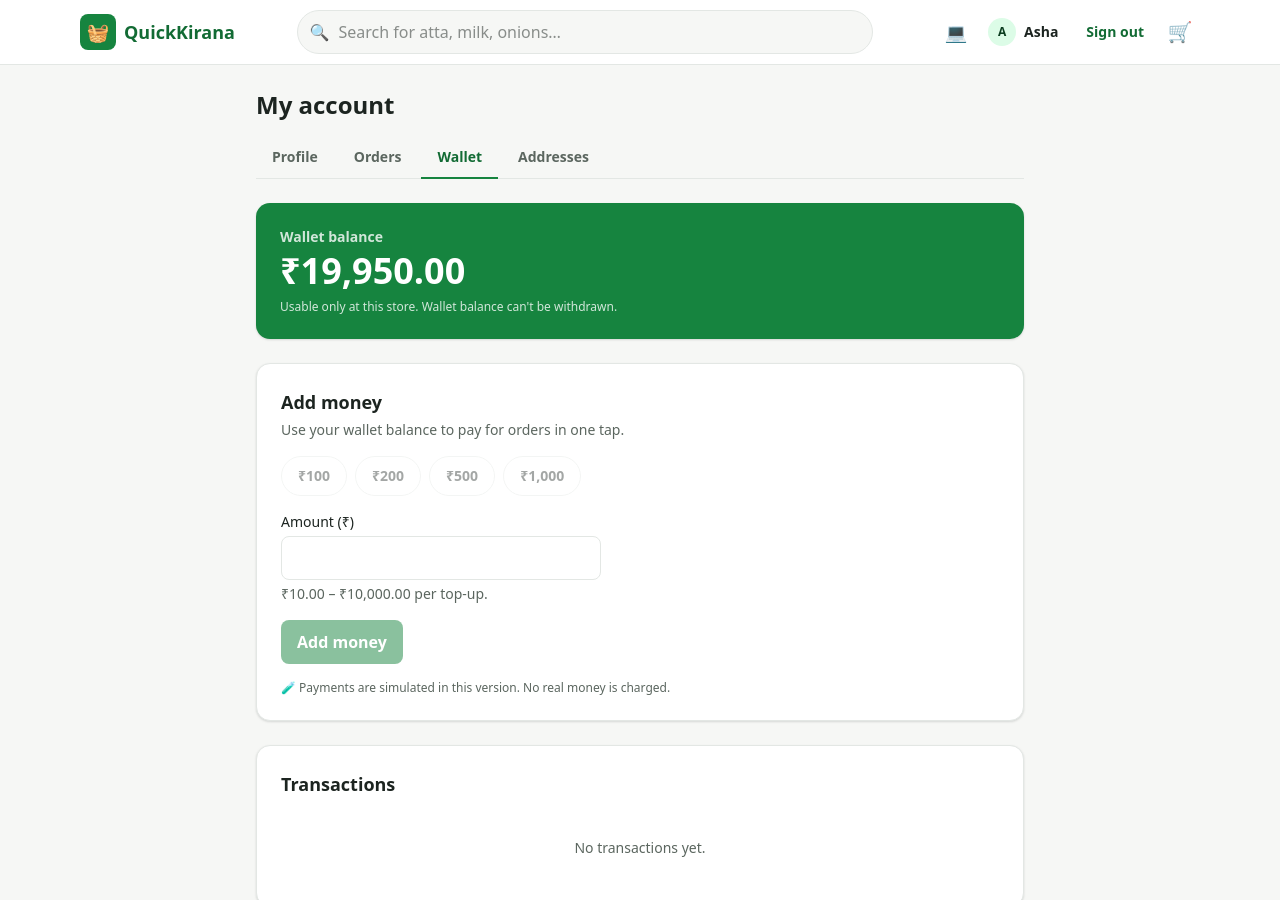
Test: customer wallet › checks limits before contacting the server
Expected: the button "₹100" is disabled, x1=281 y1=456 x2=347 y2=496
Type "60" into the number field labelled "Amount (₹)" at point(441, 558), box x1=281 y1=536 x2=601 y2=580
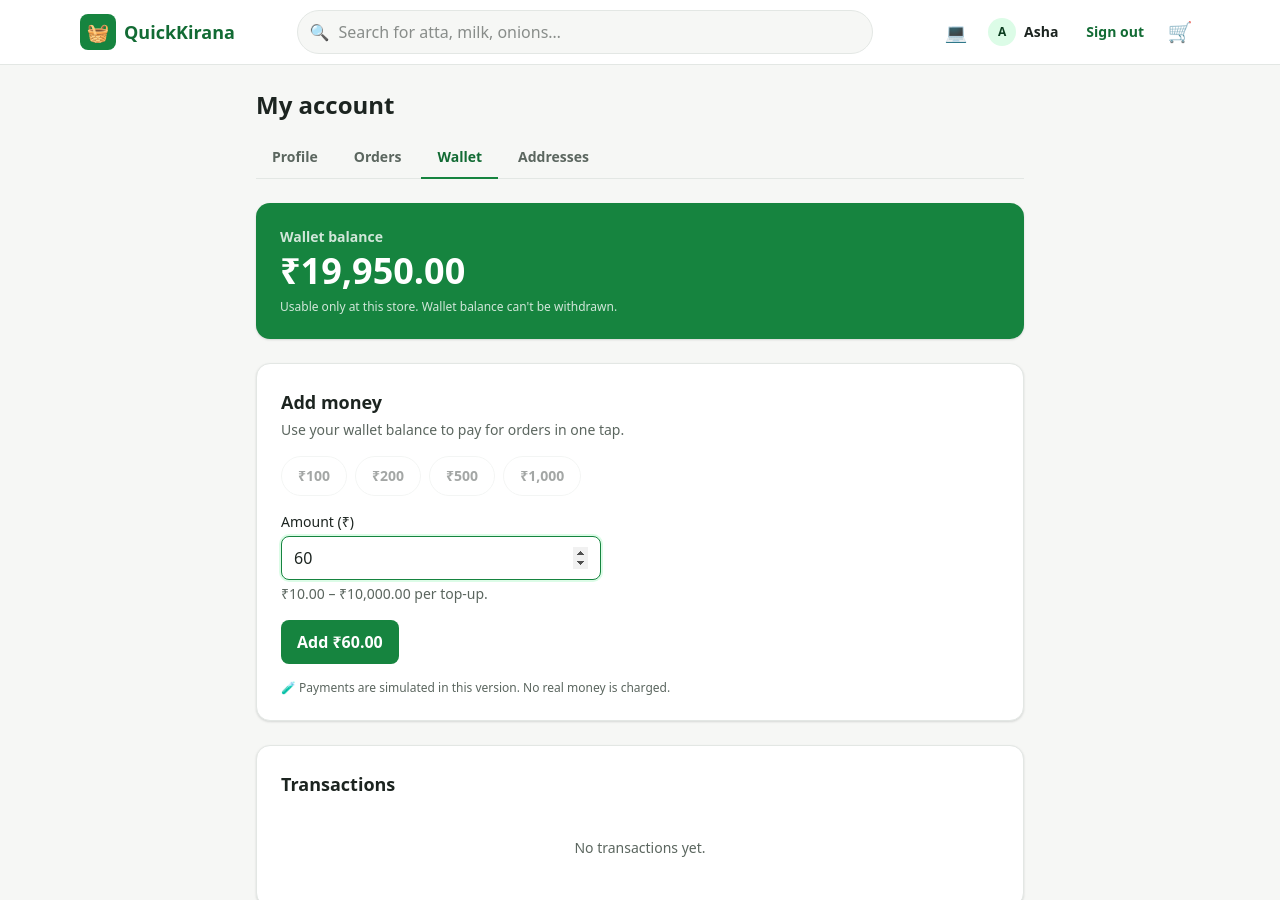
Click the button "Add ₹60.00" at point(340, 642), box x1=281 y1=620 x2=399 y2=664
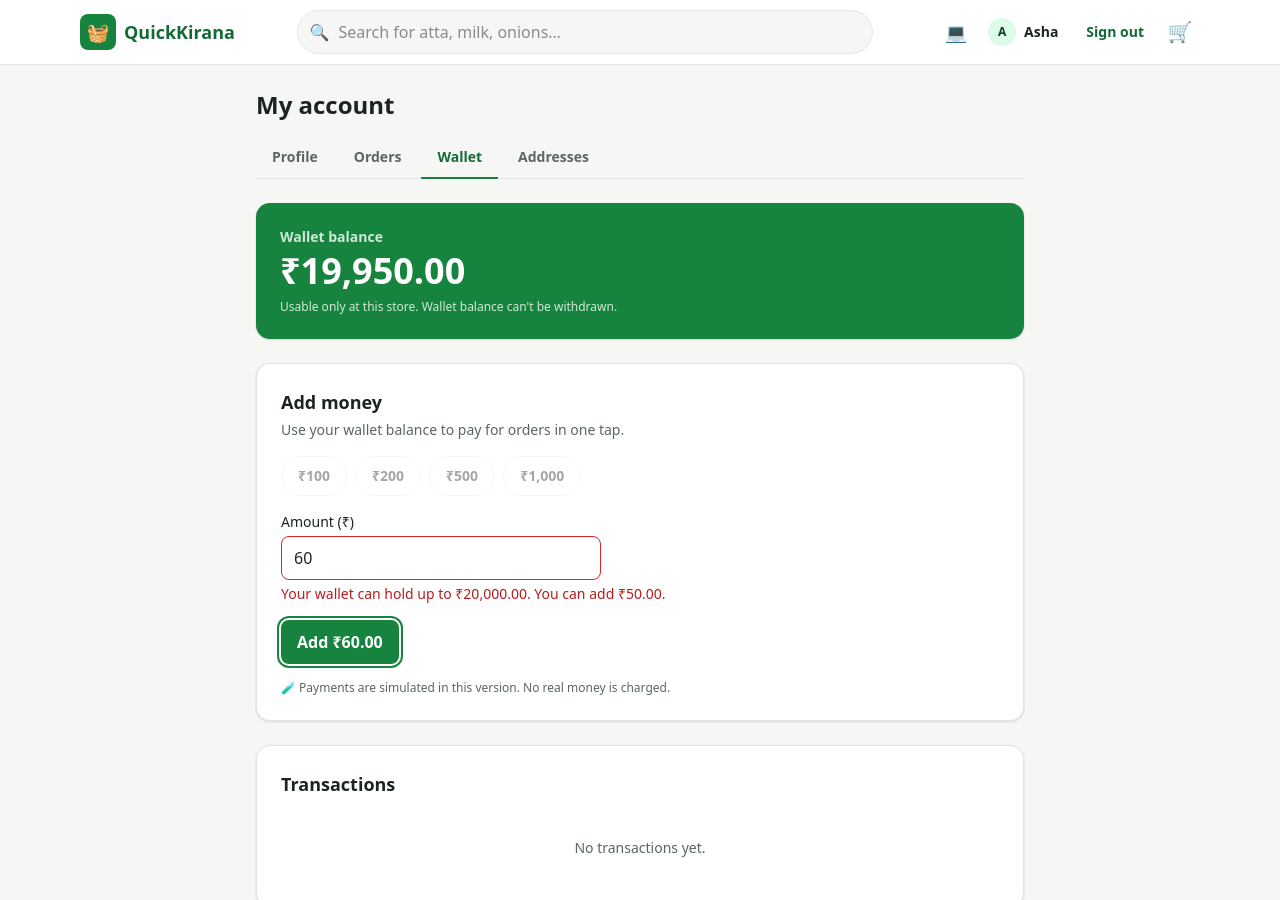
Now the text "Your wallet can hold up to ₹20,000.00. You can add ₹50.00." is shown, box x1=281 y1=584 x2=665 y2=603
